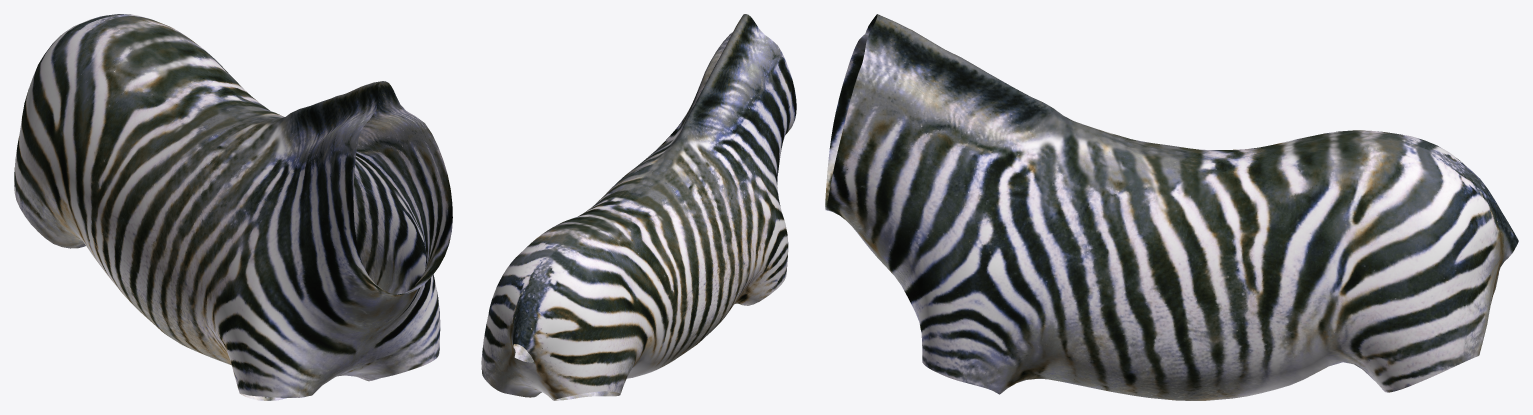
File: BodyZebra.obj
3 renders of one model, left to right at view 1: azimuth 30°, elevation 25°; view 2: azimuth 150°, elevation 25°; view 3: azimuth 270°, elevation 25°, orthographic. The views are drawn at different scales.
Parts seen in each view (by area): view 1: Zebra_Quad; view 2: Zebra_Quad; view 3: Zebra_Quad.
Part boxes in pixels (x1,y1,x2,y2): Zebra_Quad: (14,14,452,400); Zebra_Quad: (481,14,796,400); Zebra_Quad: (825,14,1518,400).
Bounding box in the file's own units: 0.5171 × 0.9302 × 1.58.
1 material, 1 textured.
